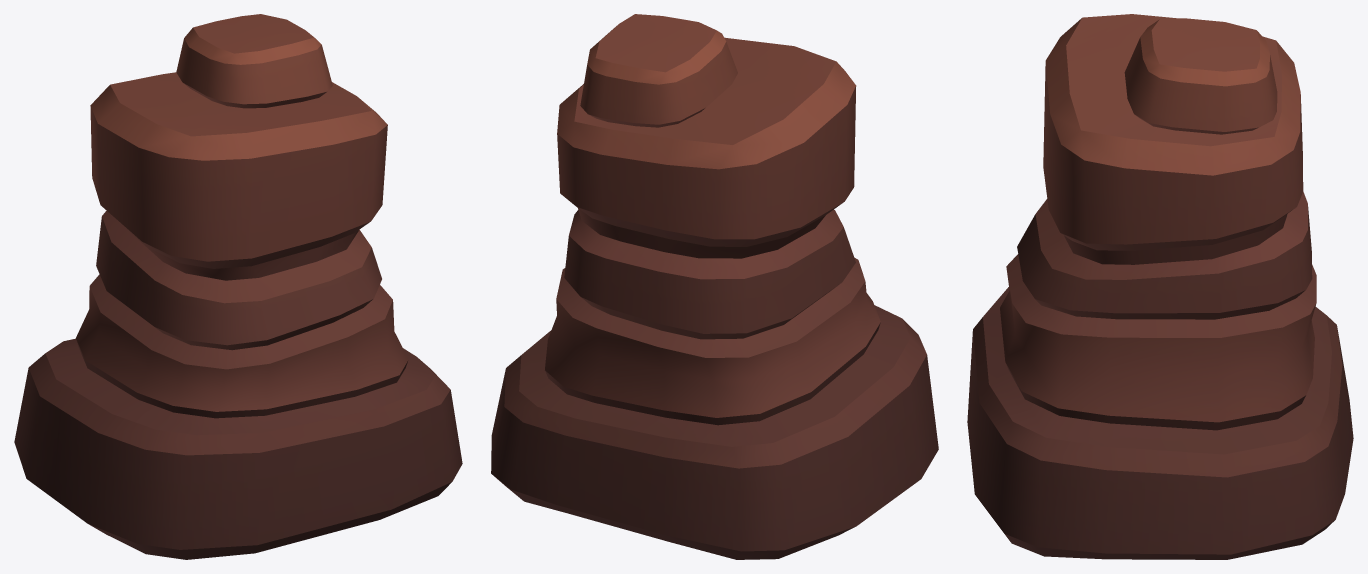
File: rock_big_B_1.glb
3 views of the same model, side by side, from view 1: azimuth 30°, elevation 25°; view 2: azimuth 150°, elevation 25°; view 3: azimuth 270°, elevation 25° (orthographic). The views are drawn at different scales.
Visible parts, largest first — view 1: rock_big_B_1; view 2: rock_big_B_1; view 3: rock_big_B_1.
Part boxes in pixels (x1,y1,x2,y2): rock_big_B_1: (14,14,462,559); rock_big_B_1: (491,14,938,559); rock_big_B_1: (967,14,1353,559).
Size of the model in its own units: 4.45 by 5.09 by 3.91.
Materials: 1 (1 with a texture image).
